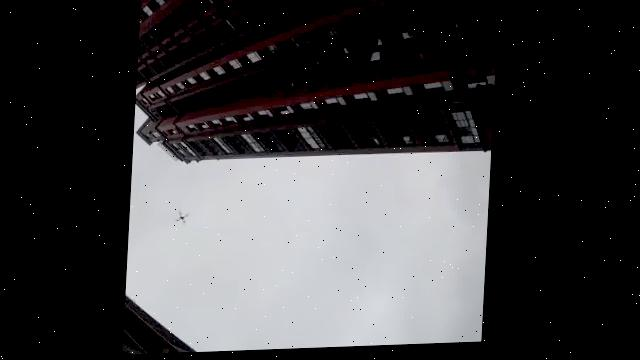drone: (167, 204, 198, 228)
